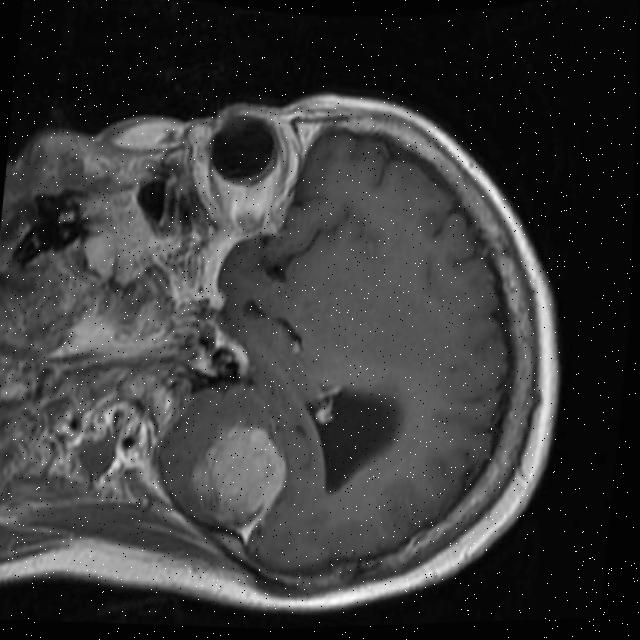Meningioma: (183, 419, 294, 548)
